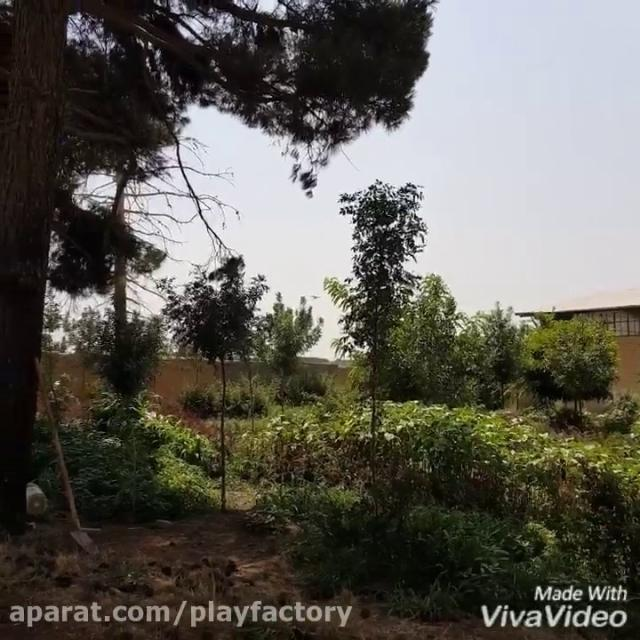drone: (306, 288, 324, 302)
